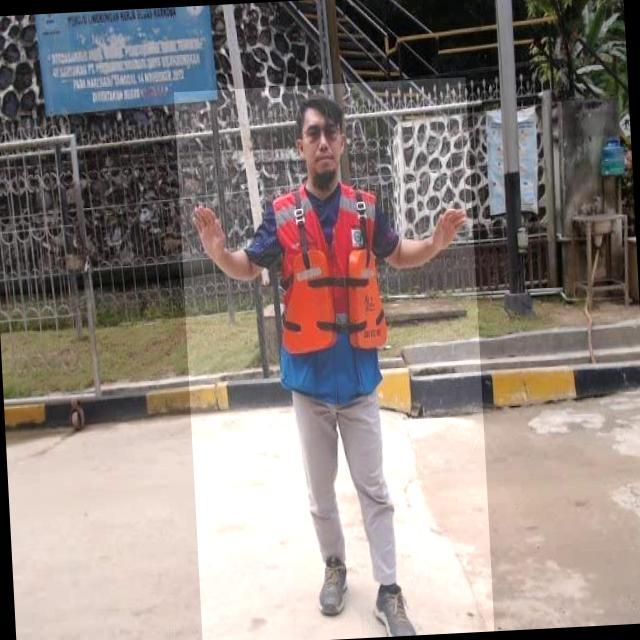Person: (182, 80, 485, 640)
Safety Boot: (368, 567, 422, 638), (311, 549, 354, 623)
Safety Vest: (272, 181, 392, 402)
bare-arms: (188, 192, 235, 271), (428, 189, 472, 265)
no-helmet: (289, 94, 349, 130)
